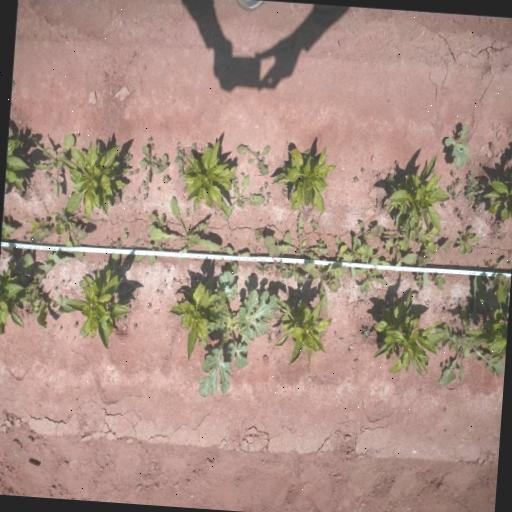plant: (368, 286, 445, 376), (60, 136, 128, 219), (269, 145, 338, 216), (392, 152, 448, 232), (72, 271, 130, 348), (274, 293, 332, 367), (181, 138, 235, 213), (169, 279, 216, 361), (466, 286, 509, 357), (4, 128, 33, 194), (483, 163, 512, 224)
weed: (195, 271, 280, 399), (436, 275, 505, 387), (1, 248, 76, 333), (148, 193, 221, 258), (396, 218, 452, 287), (277, 212, 329, 275), (253, 231, 313, 284), (25, 210, 89, 259), (30, 132, 75, 199), (304, 251, 347, 310), (222, 172, 266, 220), (334, 227, 372, 277), (356, 250, 393, 294), (440, 120, 472, 170), (234, 140, 272, 176), (382, 235, 410, 270), (138, 144, 162, 184), (454, 224, 483, 256), (134, 238, 166, 266), (355, 219, 384, 249), (487, 256, 511, 292), (226, 242, 252, 274), (102, 252, 121, 272), (28, 217, 49, 234), (464, 181, 480, 202), (430, 272, 446, 292), (148, 210, 168, 226), (113, 230, 129, 248), (446, 184, 460, 201), (118, 148, 132, 164), (158, 153, 170, 170), (373, 198, 387, 212), (175, 148, 186, 162), (386, 172, 396, 187), (332, 234, 342, 248), (252, 228, 262, 242), (449, 178, 463, 187), (310, 218, 319, 232), (482, 258, 494, 268), (466, 168, 474, 181), (316, 237, 326, 247), (161, 174, 171, 184), (362, 327, 370, 339), (456, 209, 464, 220), (128, 196, 138, 204), (178, 160, 186, 168), (474, 204, 480, 214), (42, 172, 52, 178), (303, 148, 310, 156), (450, 168, 456, 177), (262, 180, 268, 189), (352, 174, 358, 182), (280, 188, 286, 196), (258, 186, 264, 194), (191, 142, 197, 150), (142, 192, 148, 200), (146, 136, 154, 142), (178, 171, 184, 178), (144, 184, 150, 191), (185, 208, 190, 216), (266, 190, 270, 198), (276, 330, 280, 338), (267, 335, 271, 343), (146, 303, 152, 308), (134, 238, 138, 245), (137, 185, 140, 193), (140, 180, 144, 186), (134, 168, 138, 174), (72, 322, 76, 328), (129, 170, 133, 175), (48, 180, 52, 185), (362, 168, 366, 172), (134, 324, 136, 330), (376, 174, 378, 178)
